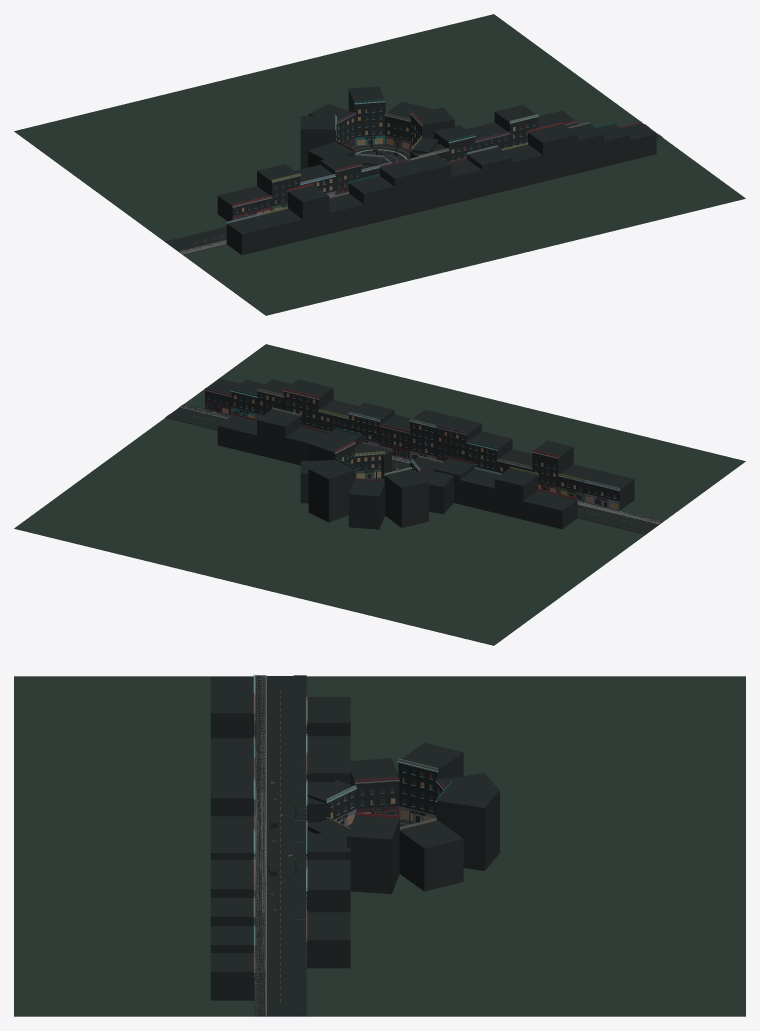
File: centru_oras.glb
The picture shows the model from 3 angles, top to bottom: view 1: azimuth 30°, elevation 25°; view 2: azimuth 150°, elevation 25°; view 3: azimuth 270°, elevation 25°; orthographic projection. The views are drawn at different scales.
Visible parts, largest first — view 1: Oras, Coliziune; view 2: Oras, Coliziune, Lumini; view 3: Oras, Coliziune.
Part boxes in pixels (x1,y1,x2,y2): Oras: [14, 14, 745, 315]; Coliziune: [165, 86, 662, 255]; Oras: [14, 344, 745, 645]; Coliziune: [165, 378, 662, 534]; Lumini: [218, 393, 616, 508]; Oras: [14, 674, 745, 1016]; Coliziune: [210, 675, 499, 1016].
Bounding box in the file's own units: 220 × 19.86 × 200.
